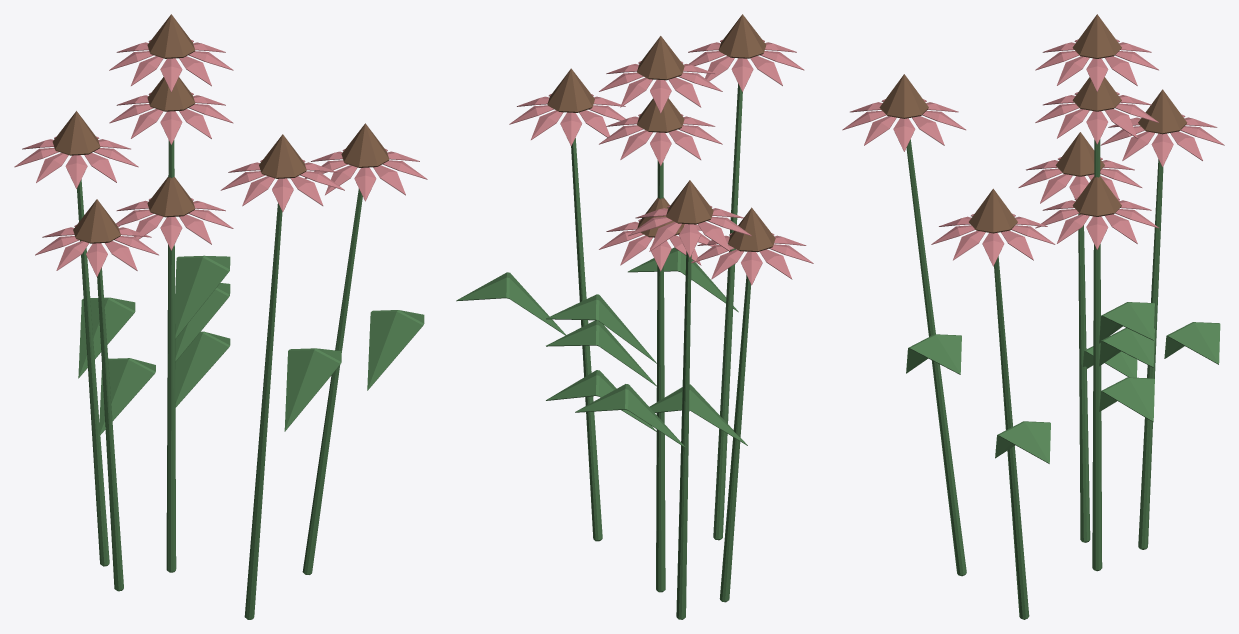
File: b08_purple_coneflowers.glb
3 renders of one model, left to right at view 1: azimuth 30°, elevation 25°; view 2: azimuth 150°, elevation 25°; view 3: azimuth 270°, elevation 25°, orthographic.
Parts seen in each view (by area): view 1: b08_purple_coneflowers; view 2: b08_purple_coneflowers; view 3: b08_purple_coneflowers.
Boxes of the visible parts, bbox=[...] form: b08_purple_coneflowers: bbox=[14, 14, 427, 619]; b08_purple_coneflowers: bbox=[456, 14, 813, 619]; b08_purple_coneflowers: bbox=[842, 14, 1224, 619].
Bounding box in the file's own units: 0.648 × 0.9506 × 0.5925.
